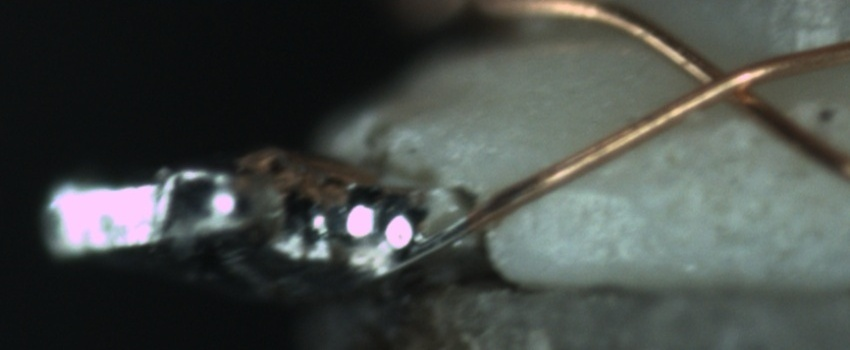CL: (671, 47, 777, 119)
